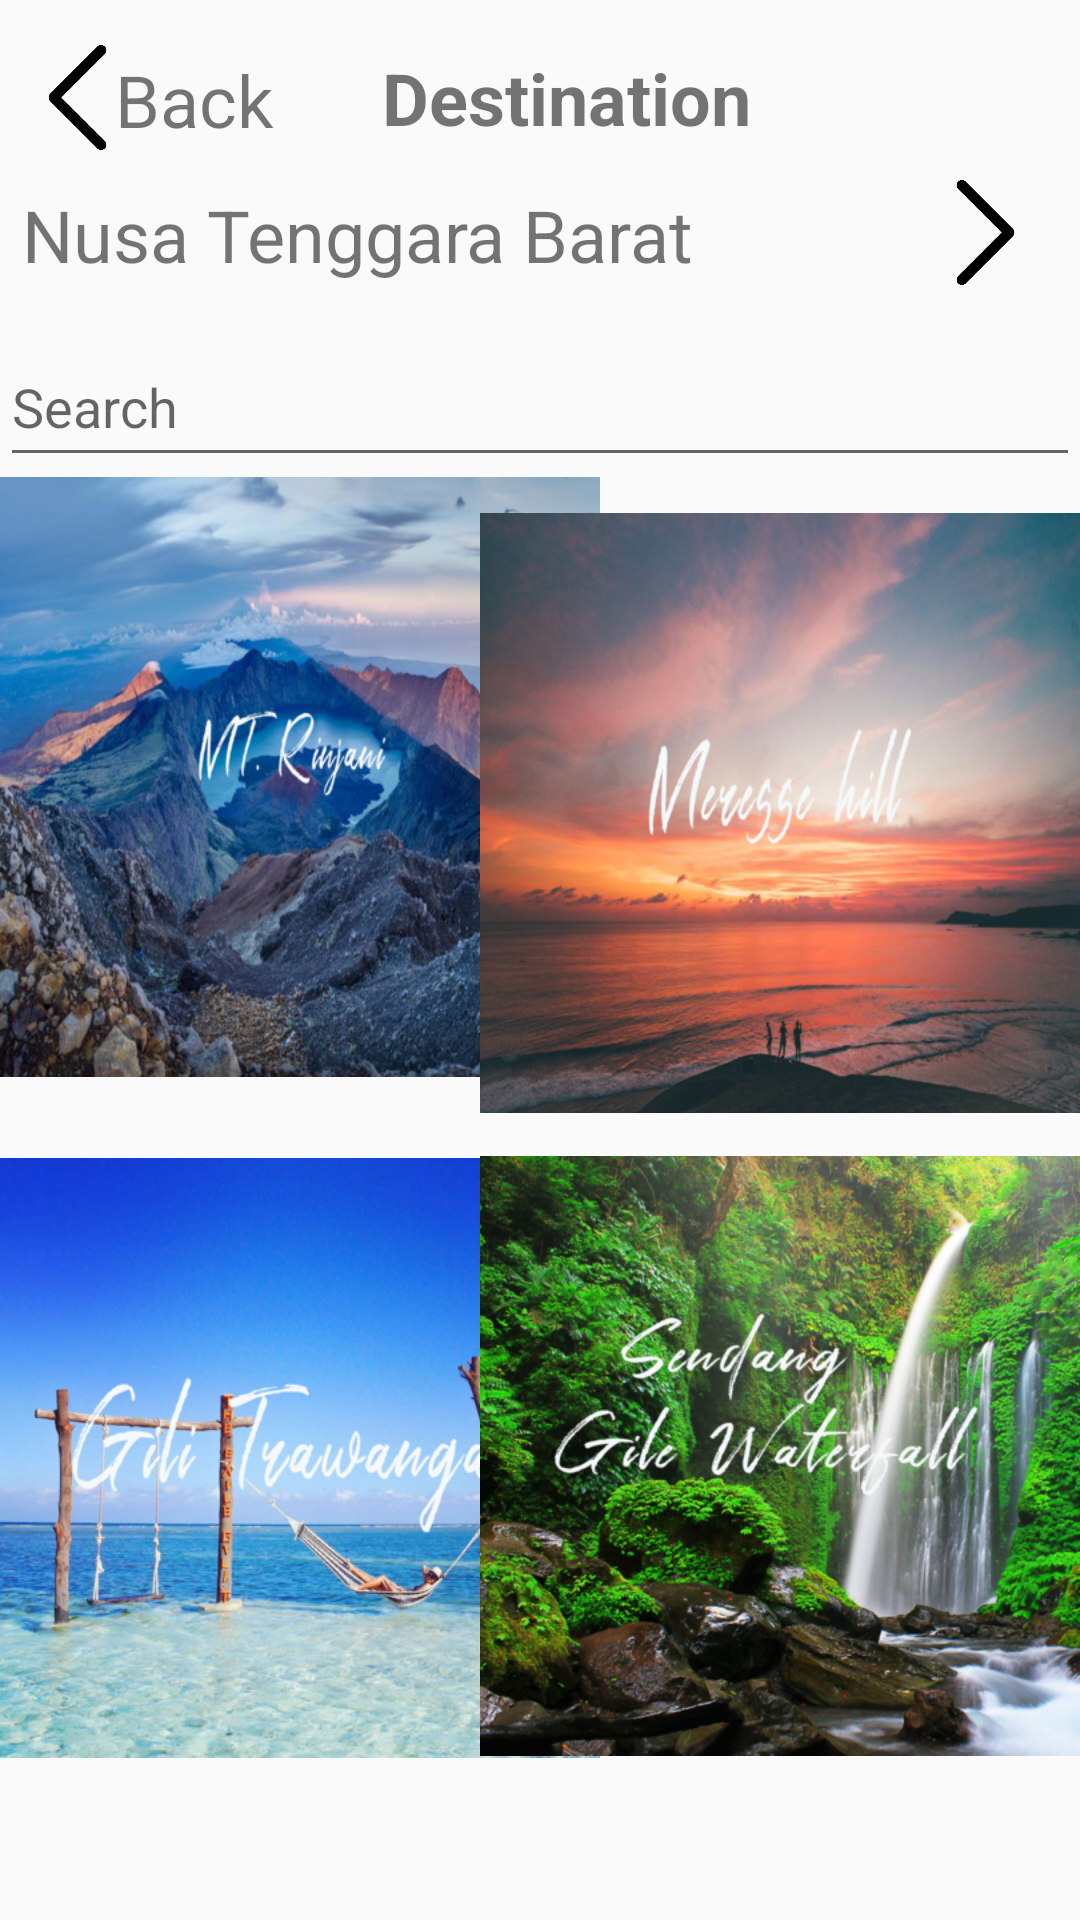

Screen size 1080px x 1920px. Icon name, then its center in pixels as point (x, y):
next: point (985, 232)
